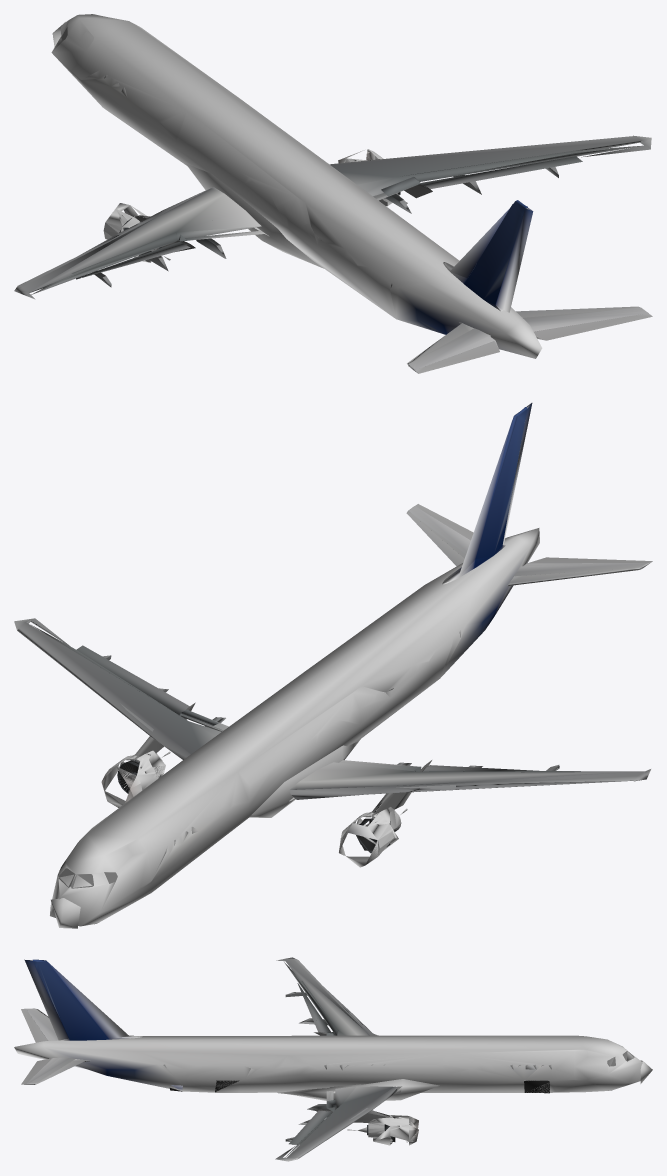
The picture shows the model from 3 angles, top to bottom: view 1: azimuth 30°, elevation 25°; view 2: azimuth 150°, elevation 25°; view 3: azimuth 270°, elevation 25°; orthographic projection. The views are drawn at different scales.
Size of the model in its own units: 33.69 by 11.34 by 44.42.
